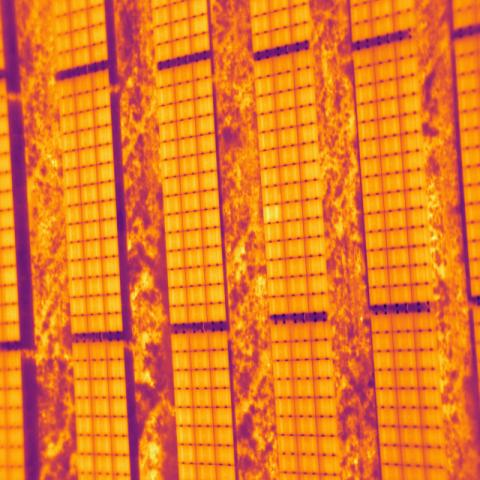fault: (264, 204, 280, 222)
